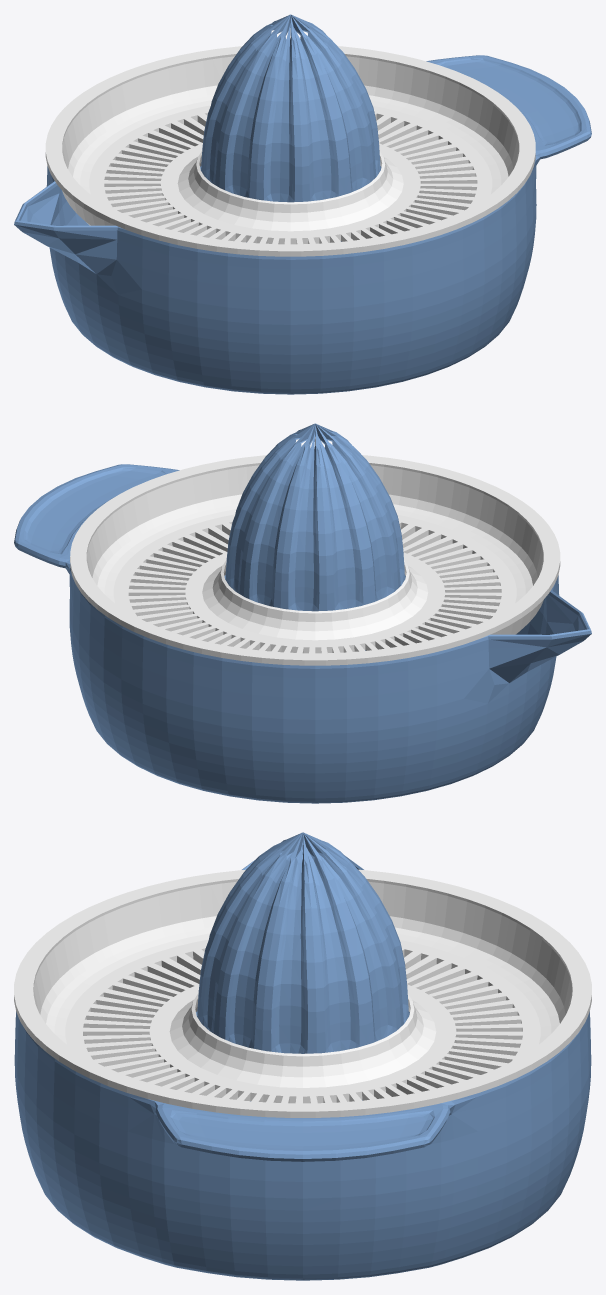
File: sweethome3d-scopia-squeezer.glb
3 views of the same model, one above another, from view 1: azimuth 30°, elevation 25°; view 2: azimuth 150°, elevation 25°; view 3: azimuth 270°, elevation 25° (orthographic). The views are drawn at different scales.
Visible parts, largest first — view 1: exprimidor_Cube.001, exprimi2_Cube; view 2: exprimidor_Cube.001, exprimi2_Cube; view 3: exprimidor_Cube.001, exprimi2_Cube.
Part boxes in pixels (box(x1,y1,x2,y2)): exprimidor_Cube.001: box(14, 14, 591, 394); exprimi2_Cube: box(45, 46, 535, 256); exprimidor_Cube.001: box(14, 423, 591, 803); exprimi2_Cube: box(70, 455, 560, 665); exprimidor_Cube.001: box(14, 832, 591, 1280); exprimi2_Cube: box(14, 869, 591, 1117).
Size of the model in its own units: 23.05 by 11.45 by 17.72.
